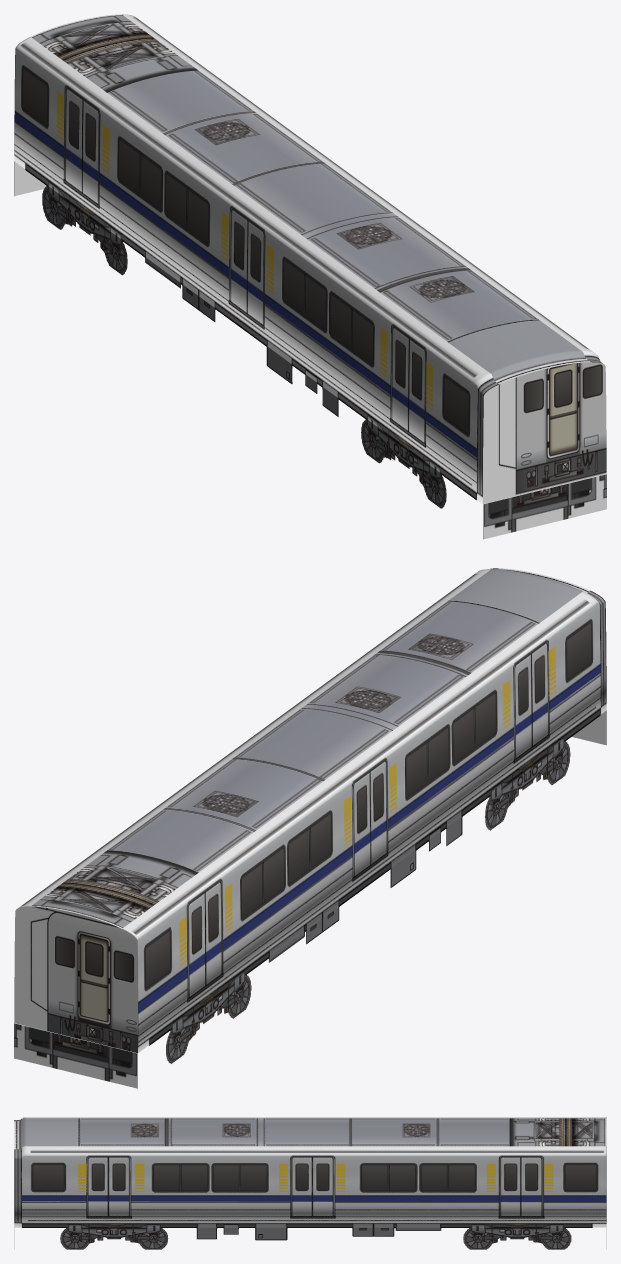
The model's file is car2.glb.
The picture shows the model from 3 angles, top to bottom: view 1: azimuth 30°, elevation 25°; view 2: azimuth 150°, elevation 25°; view 3: azimuth 270°, elevation 25°; orthographic projection. The views are drawn at different scales.
Visible parts, largest first — view 1: tobu-20400-car2; view 2: tobu-20400-car2; view 3: tobu-20400-car2.
Boxes of the visible parts, <box> form: tobu-20400-car2: <box>14,14,606,539</box>; tobu-20400-car2: <box>14,568,606,1088</box>; tobu-20400-car2: <box>14,1117,606,1249</box>.
Bounding box in the file's own units: 2.86 × 3.53 × 18.76.
Materials: 8 (7 with a texture image).
